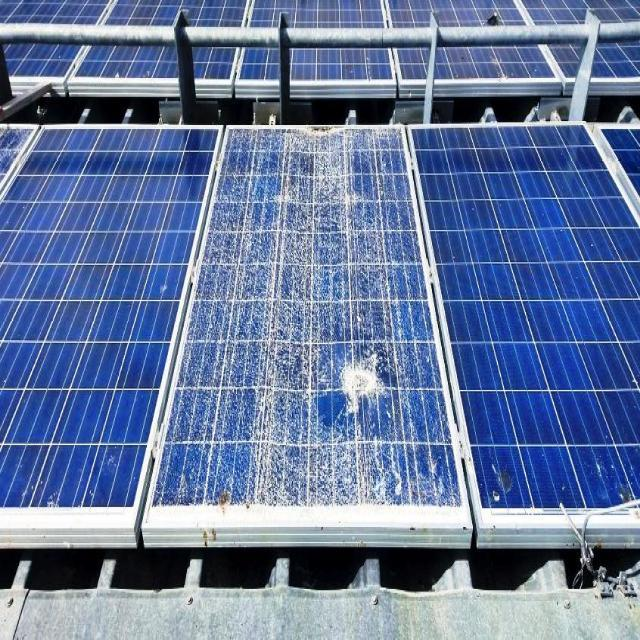faulty: (152, 126, 459, 536)
no faulty: (411, 127, 640, 525), (1, 115, 225, 521)
